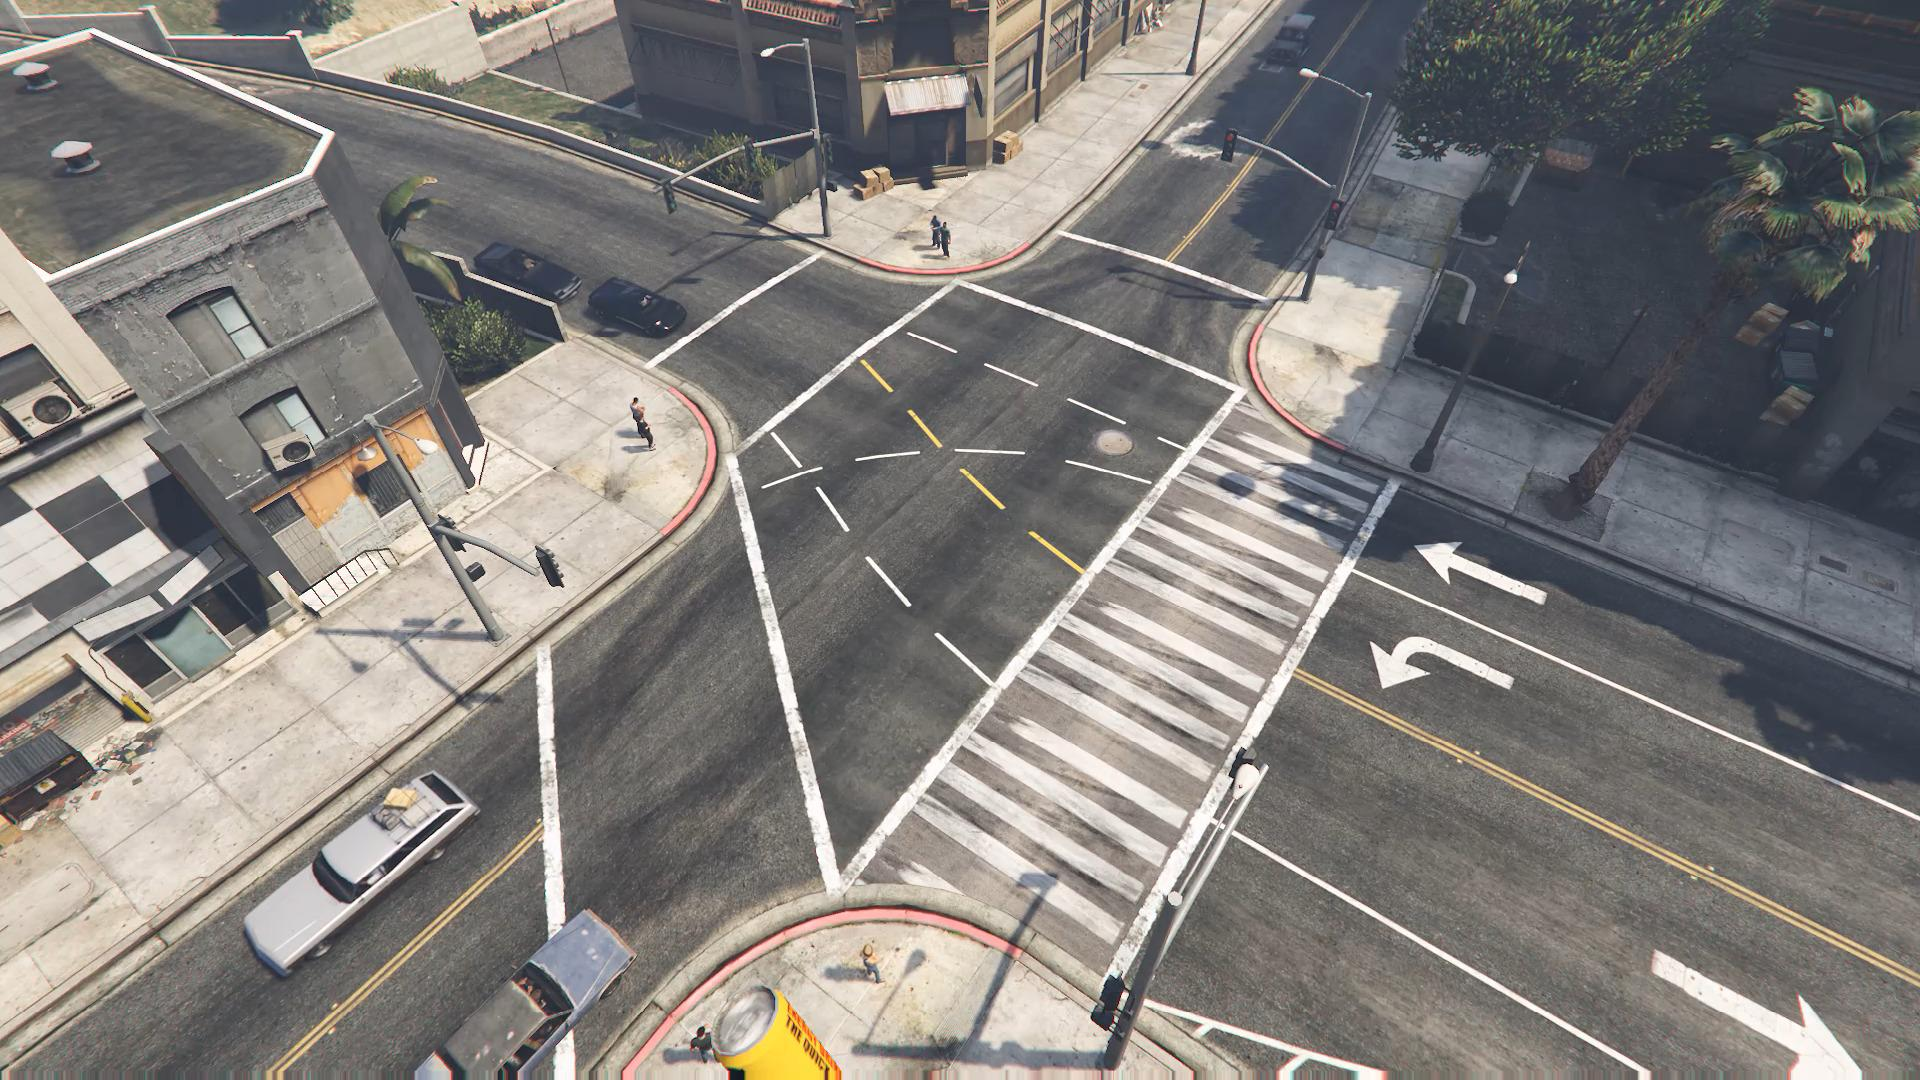car: (243, 769, 480, 978), (413, 907, 637, 1079), (472, 241, 582, 305), (587, 276, 687, 338), (1273, 12, 1316, 59)
